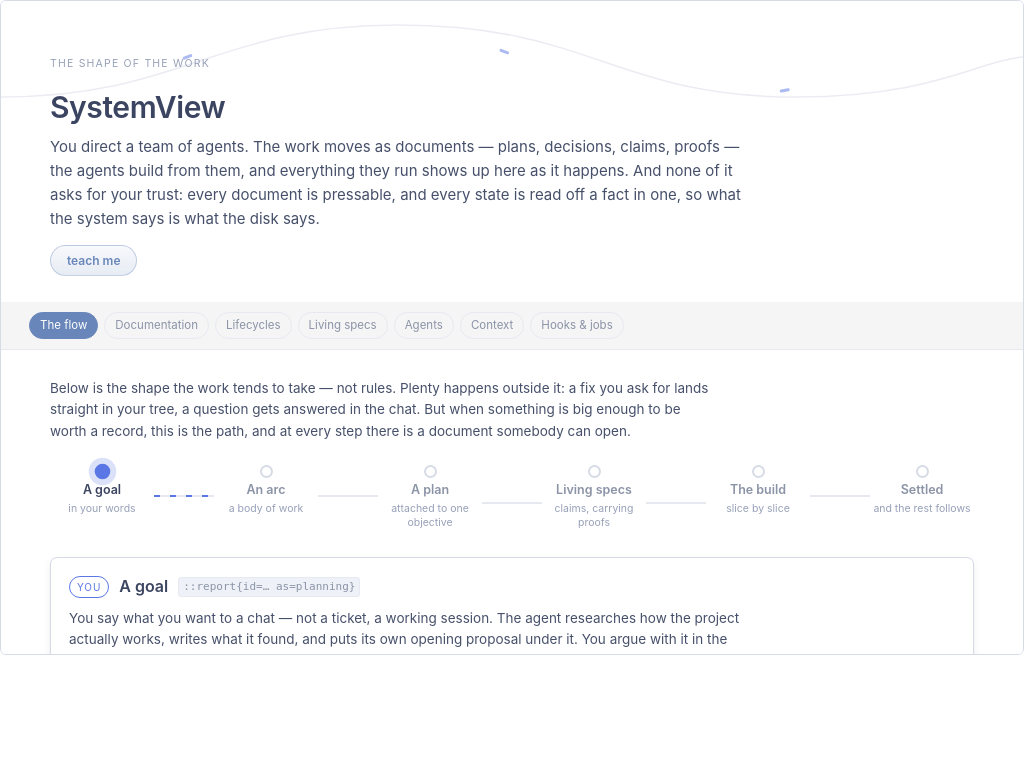
HowWeWork › the context page draws the stack — eight bricks in three strata, each one answerable
Click the tab "Context". click: (492, 325)
box: [460,312,524,338]
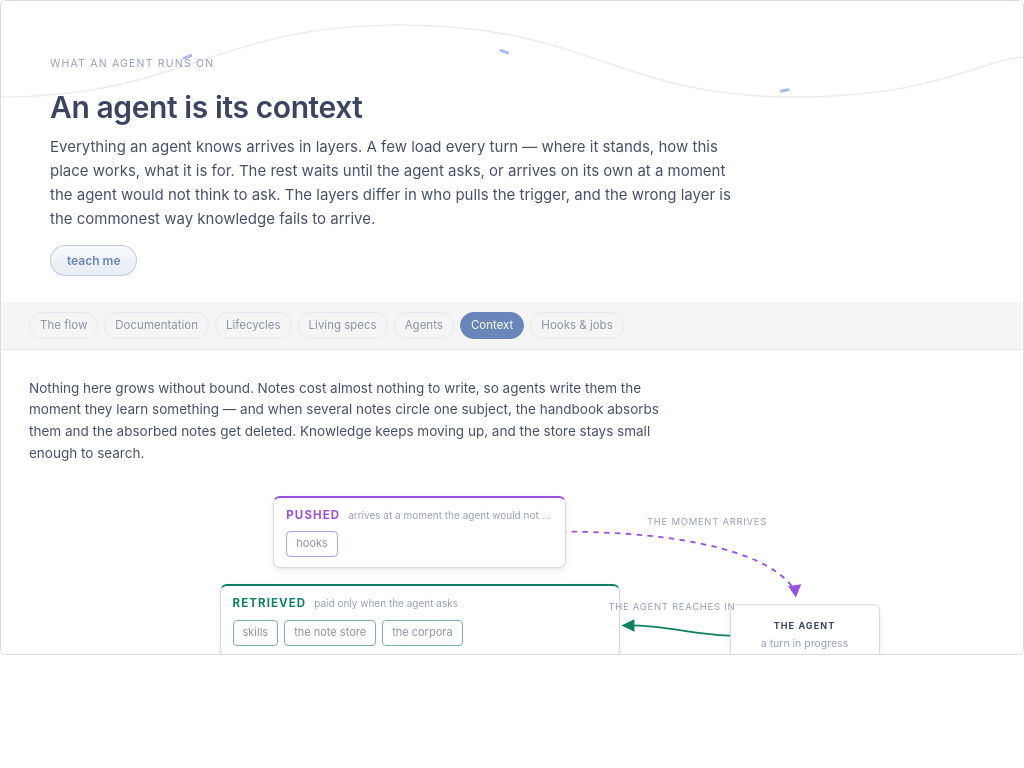
Click the button "the note store". click: (330, 633)
box: [284,620,376,646]
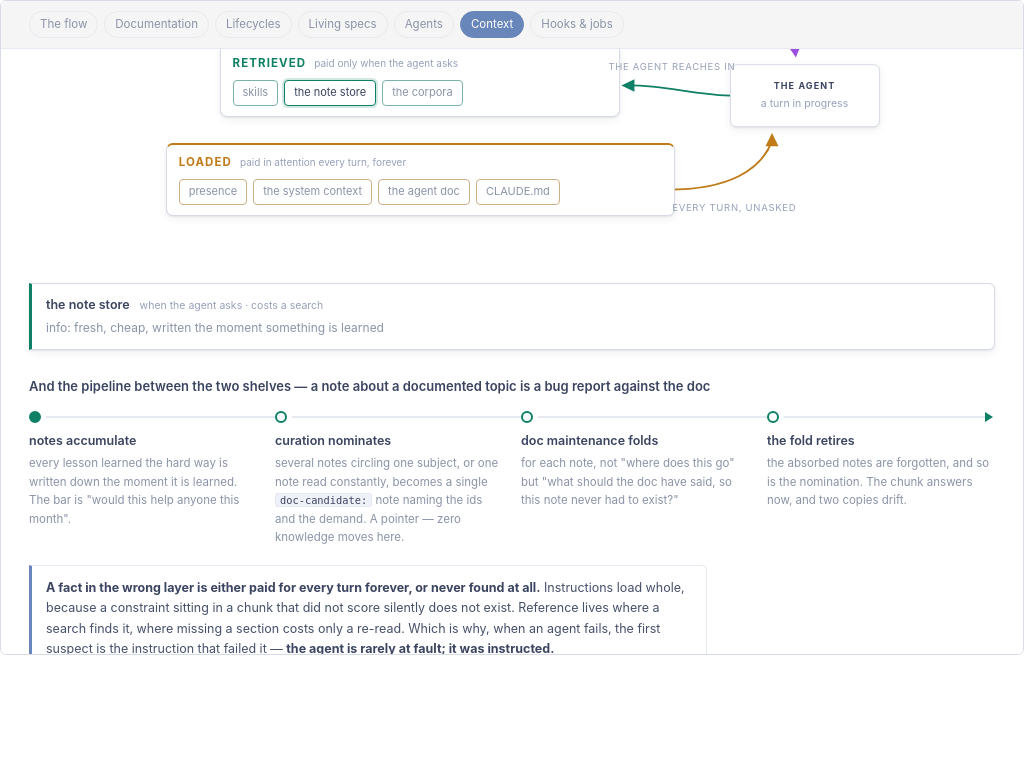
Expected: the text "info: fresh, cheap, written the moment something is learned" is shown, [46,320,384,335]
Expected: the number of elements with class "hww-pipe__dot" is 4, [29,411,41,423]; [275,411,287,423]; [521,411,533,423]; [767,411,779,423]
